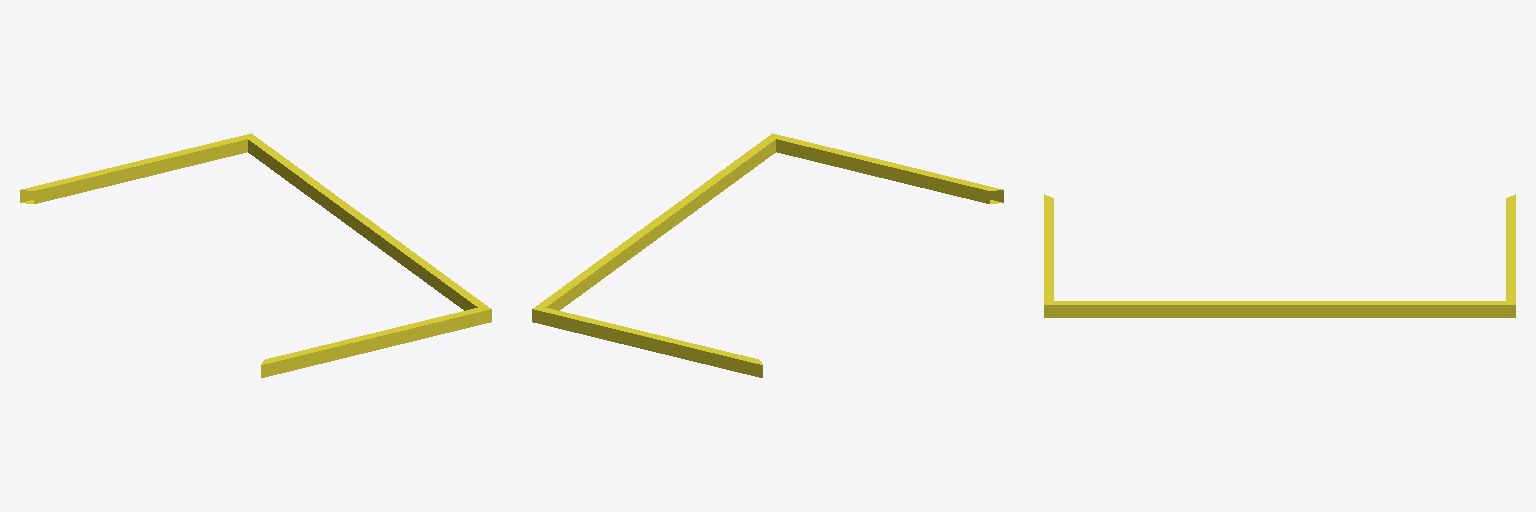
robot.urdf — partnet_5533c35223061f231ff2429be93a82ac:
<?xml version='1.0' encoding='utf-8'?>
<robot name="partnet_5533c35223061f231ff2429be93a82ac">
	<link name="base" />
	<link name="link_0">
		<visual name="board-36">
			<origin xyz="0 0 0" />
			<geometry>
				<mesh filename="textured_objs/original-18.obj" />
			</geometry>
		</visual>
		<visual name="board-36">
			<origin xyz="0 0 0" />
			<geometry>
				<mesh filename="textured_objs/new-4.obj" />
			</geometry>
		</visual>
		<visual name="vertical_side_panel-16">
			<origin xyz="0 0 0" />
			<geometry>
				<mesh filename="textured_objs/new-2.obj" />
			</geometry>
		</visual>
		<visual name="vertical_side_panel-17">
			<origin xyz="0 0 0" />
			<geometry>
				<mesh filename="textured_objs/new-1.obj" />
			</geometry>
		</visual>
		<visual name="bottom_panel-18">
			<origin xyz="0 0 0" />
			<geometry>
				<mesh filename="textured_objs/new-3.obj" />
			</geometry>
		</visual>
		<visual name="leg-19">
			<origin xyz="0 0 0" />
			<geometry>
				<mesh filename="textured_objs/original-15.obj" />
			</geometry>
		</visual>
		<visual name="leg-20">
			<origin xyz="0 0 0" />
			<geometry>
				<mesh filename="textured_objs/original-17.obj" />
			</geometry>
		</visual>
		<visual name="leg-21">
			<origin xyz="0 0 0" />
			<geometry>
				<mesh filename="textured_objs/original-16.obj" />
			</geometry>
		</visual>
		<visual name="leg-22">
			<origin xyz="0 0 0" />
			<geometry>
				<mesh filename="textured_objs/original-14.obj" />
			</geometry>
		</visual>
		<visual name="back_panel-25">
			<origin xyz="0 0 0" />
			<geometry>
				<mesh filename="textured_objs/new-5.obj" />
			</geometry>
		</visual>
		<visual name="vertical_front_panel-26">
			<origin xyz="0 0 0" />
			<geometry>
				<mesh filename="textured_objs/new-0.obj" />
			</geometry>
		</visual>
		<visual name="drawer_rails-56">
			<origin xyz="0 0 0" />
			<geometry>
				<mesh filename="textured_objs/original-10.obj" />
			</geometry>
		</visual>
		<visual name="drawer_rails-57">
			<origin xyz="0 0 0" />
			<geometry>
				<mesh filename="textured_objs/original-9.obj" />
			</geometry>
		</visual>
		<visual name="drawer_rails-47">
			<origin xyz="0 0 0" />
			<geometry>
				<mesh filename="textured_objs/original-3.obj" />
			</geometry>
		</visual>
		<visual name="drawer_rails-48">
			<origin xyz="0 0 0" />
			<geometry>
				<mesh filename="textured_objs/original-2.obj" />
			</geometry>
		</visual>
		<collision>
			<origin xyz="0 0 0" />
			<geometry>
				<mesh filename="textured_objs/original-18.obj" />
			</geometry>
		</collision>
		<collision>
			<origin xyz="0 0 0" />
			<geometry>
				<mesh filename="textured_objs/new-4.obj" />
			</geometry>
		</collision>
		<collision>
			<origin xyz="0 0 0" />
			<geometry>
				<mesh filename="textured_objs/new-2.obj" />
			</geometry>
		</collision>
		<collision>
			<origin xyz="0 0 0" />
			<geometry>
				<mesh filename="textured_objs/new-1.obj" />
			</geometry>
		</collision>
		<collision>
			<origin xyz="0 0 0" />
			<geometry>
				<mesh filename="textured_objs/new-3.obj" />
			</geometry>
		</collision>
		<collision>
			<origin xyz="0 0 0" />
			<geometry>
				<mesh filename="textured_objs/original-15.obj" />
			</geometry>
		</collision>
		<collision>
			<origin xyz="0 0 0" />
			<geometry>
				<mesh filename="textured_objs/original-17.obj" />
			</geometry>
		</collision>
		<collision>
			<origin xyz="0 0 0" />
			<geometry>
				<mesh filename="textured_objs/original-16.obj" />
			</geometry>
		</collision>
		<collision>
			<origin xyz="0 0 0" />
			<geometry>
				<mesh filename="textured_objs/original-14.obj" />
			</geometry>
		</collision>
		<collision>
			<origin xyz="0 0 0" />
			<geometry>
				<mesh filename="textured_objs/new-5.obj" />
			</geometry>
		</collision>
		<collision>
			<origin xyz="0 0 0" />
			<geometry>
				<mesh filename="textured_objs/new-0.obj" />
			</geometry>
		</collision>
		<collision>
			<origin xyz="0 0 0" />
			<geometry>
				<mesh filename="textured_objs/original-10.obj" />
			</geometry>
		</collision>
		<collision>
			<origin xyz="0 0 0" />
			<geometry>
				<mesh filename="textured_objs/original-9.obj" />
			</geometry>
		</collision>
		<collision>
			<origin xyz="0 0 0" />
			<geometry>
				<mesh filename="textured_objs/original-3.obj" />
			</geometry>
		</collision>
		<collision>
			<origin xyz="0 0 0" />
			<geometry>
				<mesh filename="textured_objs/original-2.obj" />
			</geometry>
		</collision>
	</link>
	<joint name="joint_0" type="fixed">
		<origin rpy="1.570796326794897 0 -1.570796326794897" xyz="0 0 0" />
		<child link="link_0" />
		<parent link="base" />
	</joint>
	<link name="link_1">
		<visual name="handle-46">
			<origin xyz="0 0 0" />
			<geometry>
				<mesh filename="textured_objs/original-6.obj" />
			</geometry>
		</visual>
		<visual name="drawer_front-49">
			<origin xyz="0 0 0" />
			<geometry>
				<mesh filename="textured_objs/original-5.obj" />
			</geometry>
		</visual>
		<visual name="drawer_side-50">
			<origin xyz="0 0 0" />
			<geometry>
				<mesh filename="textured_objs/new-7.obj" />
			</geometry>
		</visual>
		<visual name="drawer_side-51">
			<origin xyz="0 0 0" />
			<geometry>
				<mesh filename="textured_objs/new-6.obj" />
			</geometry>
		</visual>
		<visual name="drawer_back-52">
			<origin xyz="0 0 0" />
			<geometry>
				<mesh filename="textured_objs/new-8.obj" />
			</geometry>
		</visual>
		<visual name="drawer_bottom-53">
			<origin xyz="0 0 0" />
			<geometry>
				<mesh filename="textured_objs/new-9.obj" />
			</geometry>
		</visual>
		<collision>
			<origin xyz="0 0 0" />
			<geometry>
				<mesh filename="textured_objs/original-6.obj" />
			</geometry>
		</collision>
		<collision>
			<origin xyz="0 0 0" />
			<geometry>
				<mesh filename="textured_objs/original-5.obj" />
			</geometry>
		</collision>
		<collision>
			<origin xyz="0 0 0" />
			<geometry>
				<mesh filename="textured_objs/new-7.obj" />
			</geometry>
		</collision>
		<collision>
			<origin xyz="0 0 0" />
			<geometry>
				<mesh filename="textured_objs/new-6.obj" />
			</geometry>
		</collision>
		<collision>
			<origin xyz="0 0 0" />
			<geometry>
				<mesh filename="textured_objs/new-8.obj" />
			</geometry>
		</collision>
		<collision>
			<origin xyz="0 0 0" />
			<geometry>
				<mesh filename="textured_objs/new-9.obj" />
			</geometry>
		</collision>
	</link>
	<joint name="joint_1" type="prismatic">
		<origin xyz="0 0 0" />
		<axis xyz="0 0 1" />
		<child link="link_1" />
		<parent link="link_0" />
		<limit lower="0" upper="0.45199999999999996" />
	</joint>
	<link name="link_2">
		<visual name="handle-55">
			<origin xyz="0 0 0" />
			<geometry>
				<mesh filename="textured_objs/original-12.obj" />
			</geometry>
		</visual>
		<visual name="drawer_front-58">
			<origin xyz="0 0 0" />
			<geometry>
				<mesh filename="textured_objs/original-8.obj" />
			</geometry>
		</visual>
		<visual name="drawer_side-59">
			<origin xyz="0 0 0" />
			<geometry>
				<mesh filename="textured_objs/new-11.obj" />
			</geometry>
		</visual>
		<visual name="drawer_side-60">
			<origin xyz="0 0 0" />
			<geometry>
				<mesh filename="textured_objs/new-10.obj" />
			</geometry>
		</visual>
		<visual name="drawer_back-61">
			<origin xyz="0 0 0" />
			<geometry>
				<mesh filename="textured_objs/new-12.obj" />
			</geometry>
		</visual>
		<visual name="drawer_bottom-62">
			<origin xyz="0 0 0" />
			<geometry>
				<mesh filename="textured_objs/new-13.obj" />
			</geometry>
		</visual>
		<collision>
			<origin xyz="0 0 0" />
			<geometry>
				<mesh filename="textured_objs/original-12.obj" />
			</geometry>
		</collision>
		<collision>
			<origin xyz="0 0 0" />
			<geometry>
				<mesh filename="textured_objs/original-8.obj" />
			</geometry>
		</collision>
		<collision>
			<origin xyz="0 0 0" />
			<geometry>
				<mesh filename="textured_objs/new-11.obj" />
			</geometry>
		</collision>
		<collision>
			<origin xyz="0 0 0" />
			<geometry>
				<mesh filename="textured_objs/new-10.obj" />
			</geometry>
		</collision>
		<collision>
			<origin xyz="0 0 0" />
			<geometry>
				<mesh filename="textured_objs/new-12.obj" />
			</geometry>
		</collision>
		<collision>
			<origin xyz="0 0 0" />
			<geometry>
				<mesh filename="textured_objs/new-13.obj" />
			</geometry>
		</collision>
	</link>
	<joint name="joint_2" type="prismatic">
		<origin xyz="0 0 0" />
		<axis xyz="0 0 1" />
		<child link="link_2" />
		<parent link="link_0" />
		<limit lower="0" upper="0.42799999999999994" />
	</joint>
</robot>

--- Render facts (derived) ---
The picture shows the robot from 3 angles, left to right: view 1: azimuth 30°, elevation 25°; view 2: azimuth 150°, elevation 25°; view 3: azimuth 270°, elevation 25°; orthographic projection.
Robot: partnet_5533c35223061f231ff2429be93a82ac — 4 links, 3 joints (2 prismatic, 1 fixed); root link base; default pose: all joints at 0.
Visible links, largest first — view 1: link_2; view 2: link_2; view 3: link_2.
Link boxes in pixels (x1=…): link_2: x1=20, y1=133, x2=491, y2=377; link_2: x1=532, y1=133, x2=1003, y2=377; link_2: x1=1044, y1=194, x2=1515, y2=317.
Bounding box of the posed robot: 0.6998 × 1.26 × 0.0382 m (x, y, z).
3 mesh visuals loaded from 27 distinct referenced files (3 OBJ); not drawn: 24 (reference not matched to a file when rendering).